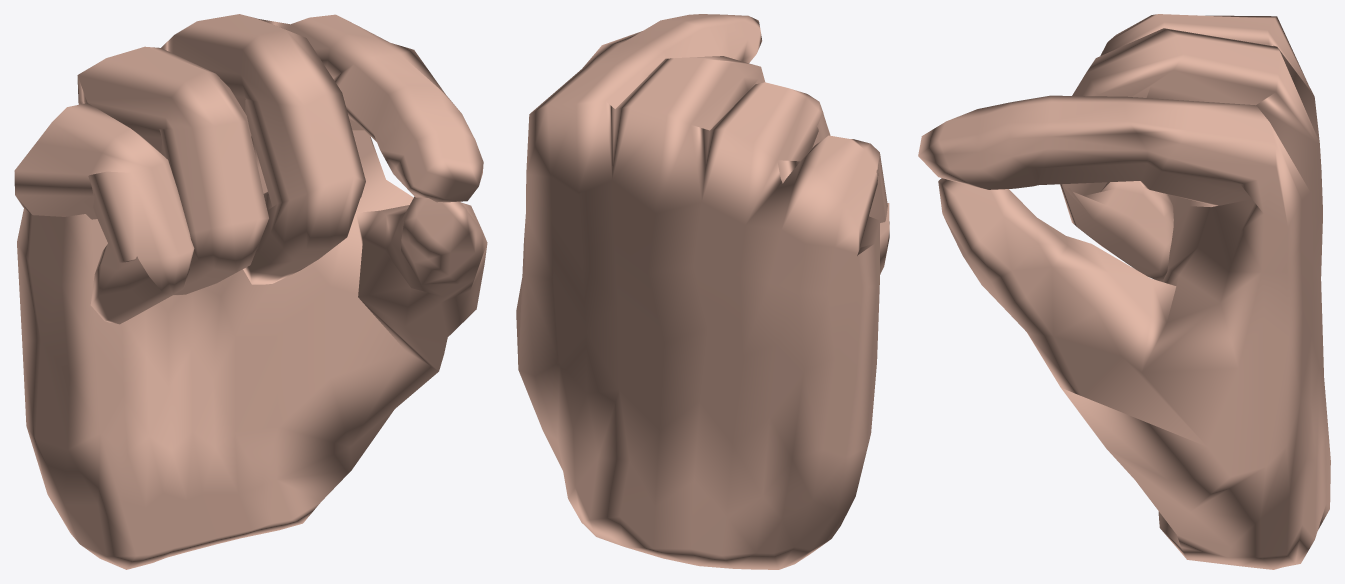
Rendered from MAO_PASSARINHO_FECHADA.obj.
3 renders of one model, left to right at view 1: azimuth 30°, elevation 25°; view 2: azimuth 150°, elevation 25°; view 3: azimuth 270°, elevation 25°, orthographic. The views are drawn at different scales.
Parts seen in each view (by area): view 1: mao_dir:mao_dir; view 2: mao_dir:mao_dir; view 3: mao_dir:mao_dir.
Part boxes in pixels (left/top/right/bottom): mao_dir:mao_dir: left=14, top=14, right=487, bottom=569; mao_dir:mao_dir: left=516, top=14, right=889, bottom=569; mao_dir:mao_dir: left=918, top=14, right=1330, bottom=569.
Bounding box in the file's own units: 130 × 155 × 115.
